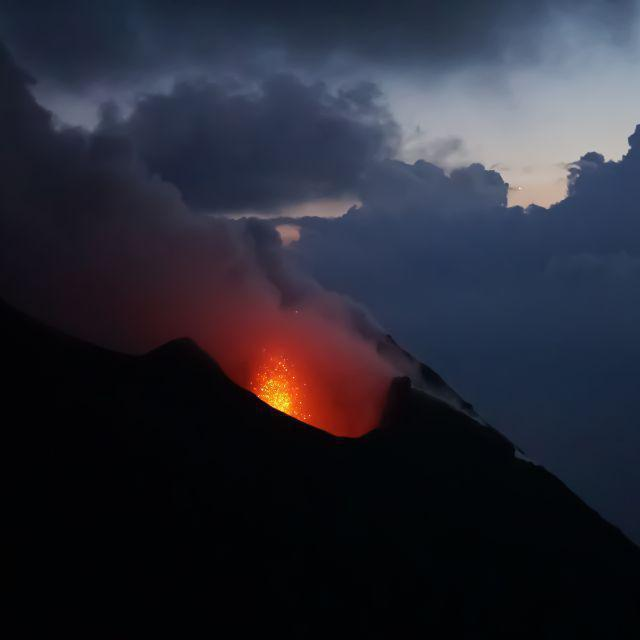fire: (242, 342, 296, 426)
smoke: (67, 161, 262, 346), (9, 8, 510, 78), (297, 310, 370, 410)
